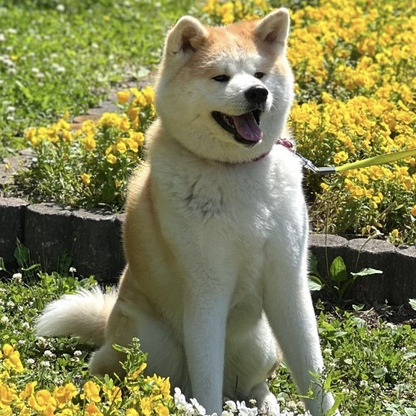akita: (30, 2, 342, 416)
